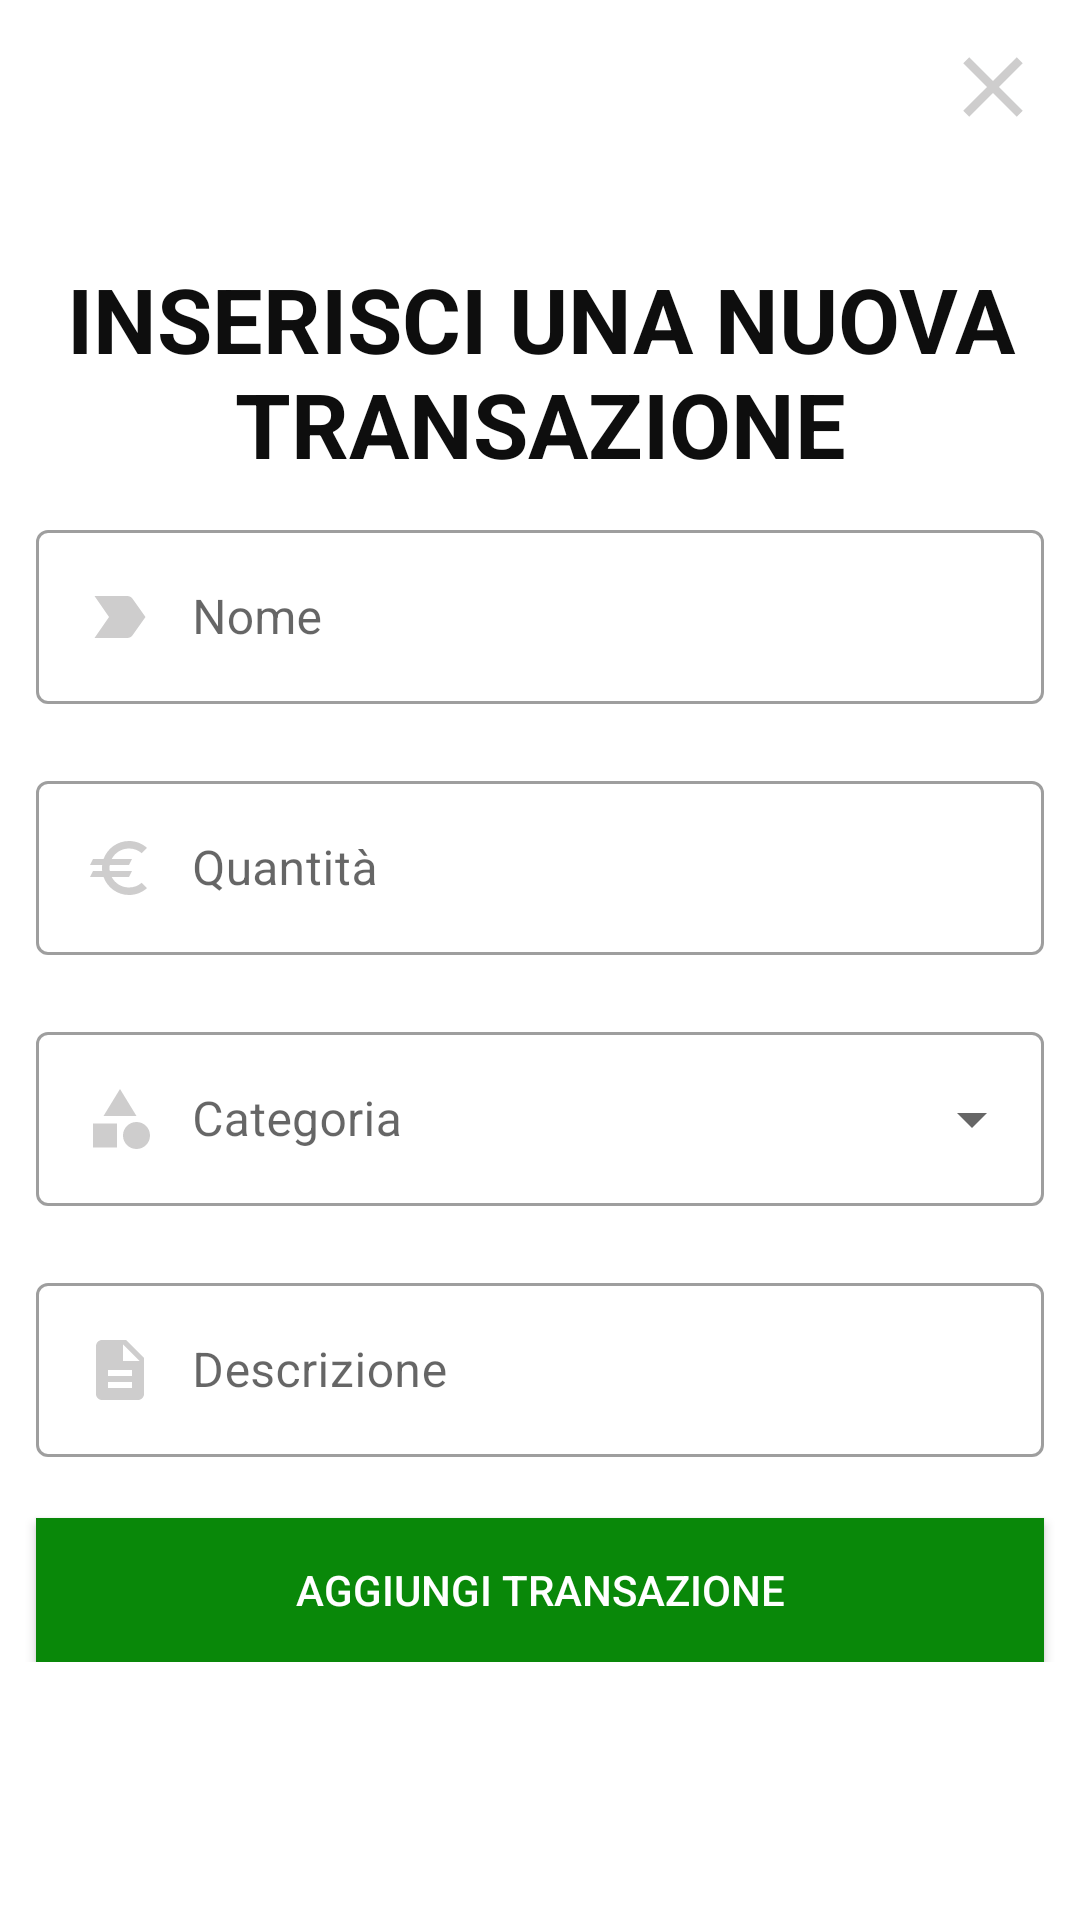

Where to tap for icons on this 1080w x 1920h app screen, as (x=x, y=y):
close: (x=993, y=87)
